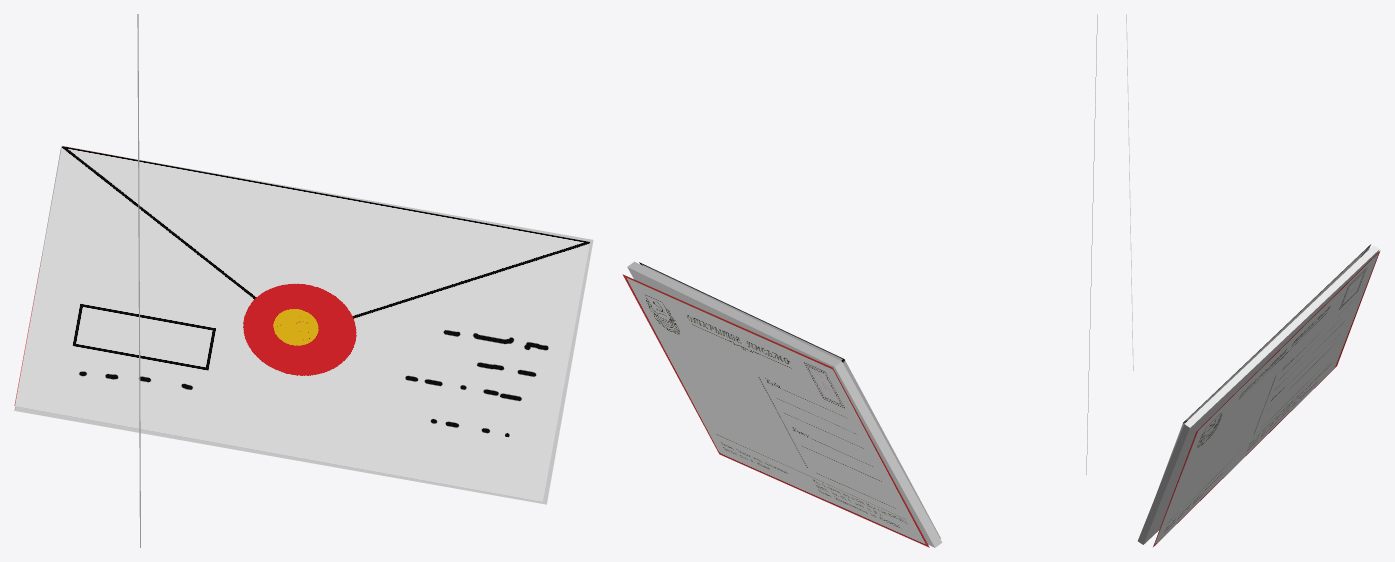
The picture shows the model from 3 angles, left to right: view 1: azimuth 30°, elevation 25°; view 2: azimuth 150°, elevation 25°; view 3: azimuth 270°, elevation 25°; orthographic projection. The views are drawn at different scales.
Visible parts, largest first — view 1: Плоскость.001, Куб, Плоскость; view 2: Плоскость.002, Куб, Плоскость.001; view 3: Плоскость.002, Куб, Плоскость.001, Плоскость.
Boxes of the visible parts, x1=… form: Плоскость.001: x1=15, y1=146, x2=589, y2=501; Куб: x1=14, y1=146, x2=593, y2=504; Плоскость: x1=137, y1=14, x2=140, y2=547; Плоскость.002: x1=622, y1=274, x2=929, y2=547; Куб: x1=627, y1=261, x2=942, y2=547; Плоскость.001: x1=639, y1=262, x2=940, y2=538; Плоскость.002: x1=1153, y1=250, x2=1380, y2=546; Куб: x1=1138, y1=245, x2=1379, y2=544; Плоскость.001: x1=1157, y1=244, x2=1370, y2=491; Плоскость: x1=1126, y1=14, x2=1133, y2=370.
Bounding box in the file's own units: 31.14 × 35.68 × 20.67.
Materials: 3 (2 with a texture image).
